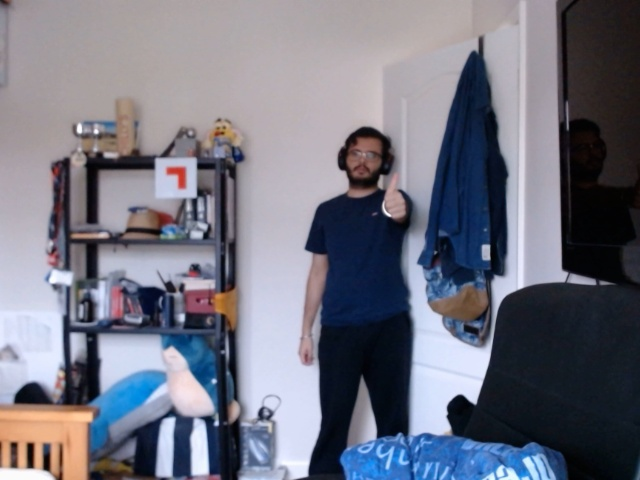Thumbs up: (380, 167, 416, 227)
